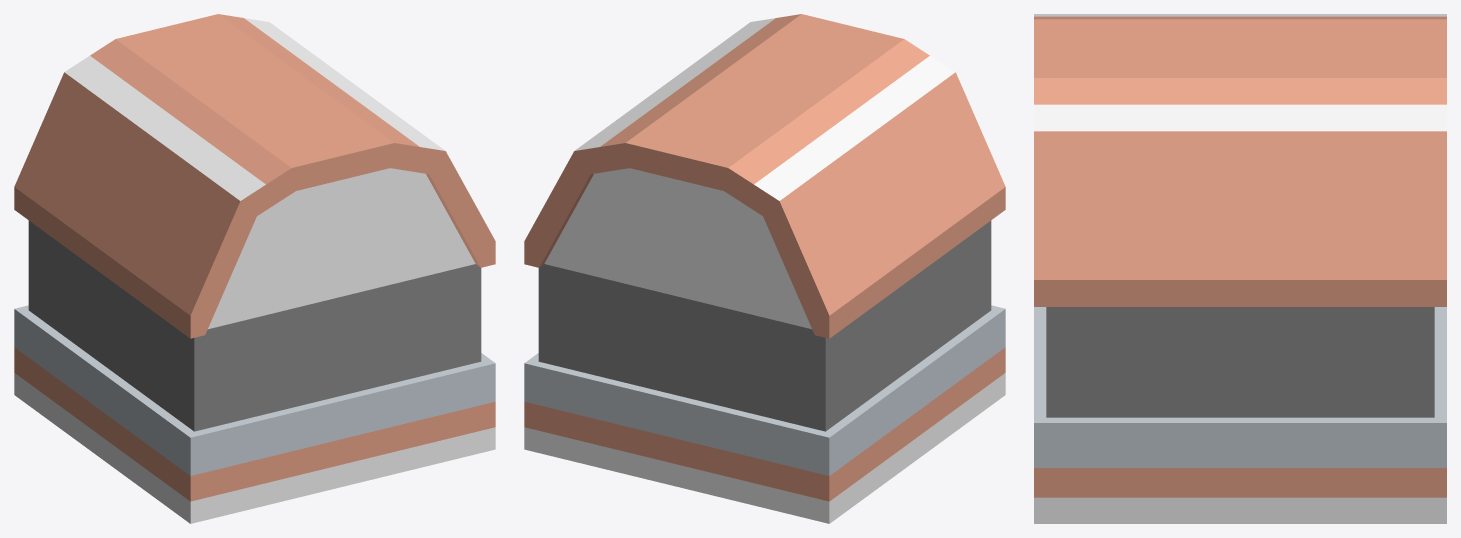
Rendered from buildingCorridor.glb.
The picture shows the model from 3 angles, left to right: view 1: azimuth 30°, elevation 25°; view 2: azimuth 150°, elevation 25°; view 3: azimuth 270°, elevation 25°; orthographic projection. The views are drawn at different scales.
Visible parts, largest first — view 1: buildingCorridor; view 2: buildingCorridor; view 3: buildingCorridor.
Boxes of the visible parts, <box> form: buildingCorridor: <box>14,14,495,523</box>; buildingCorridor: <box>524,14,1005,523</box>; buildingCorridor: <box>1034,14,1446,523</box>.
Bounding box in the file's own units: 10 × 10.37 × 10.
